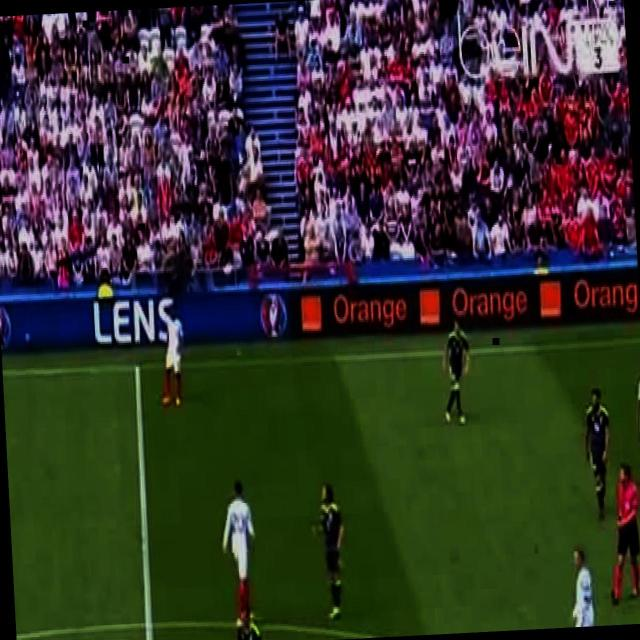player-white: (217, 479, 259, 623), (310, 478, 348, 622), (602, 460, 640, 601), (582, 388, 613, 524), (441, 317, 474, 431), (551, 546, 595, 628), (156, 302, 188, 410), (229, 604, 263, 640), (632, 356, 640, 482)
